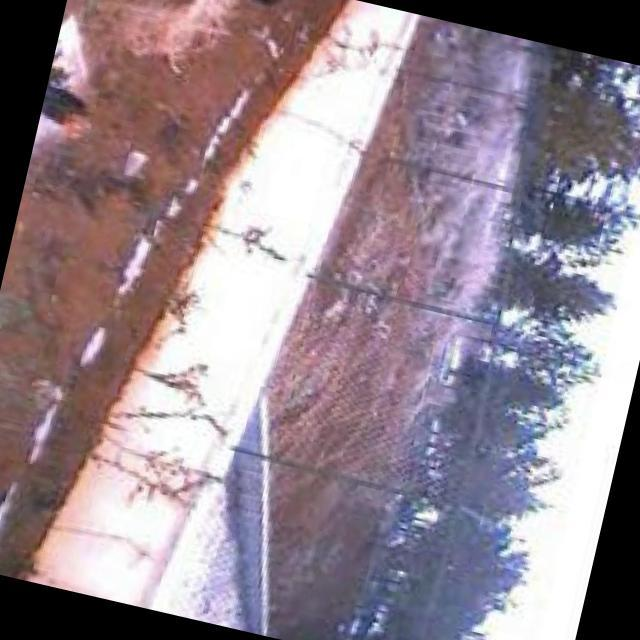Fire: (36, 82, 103, 149)
